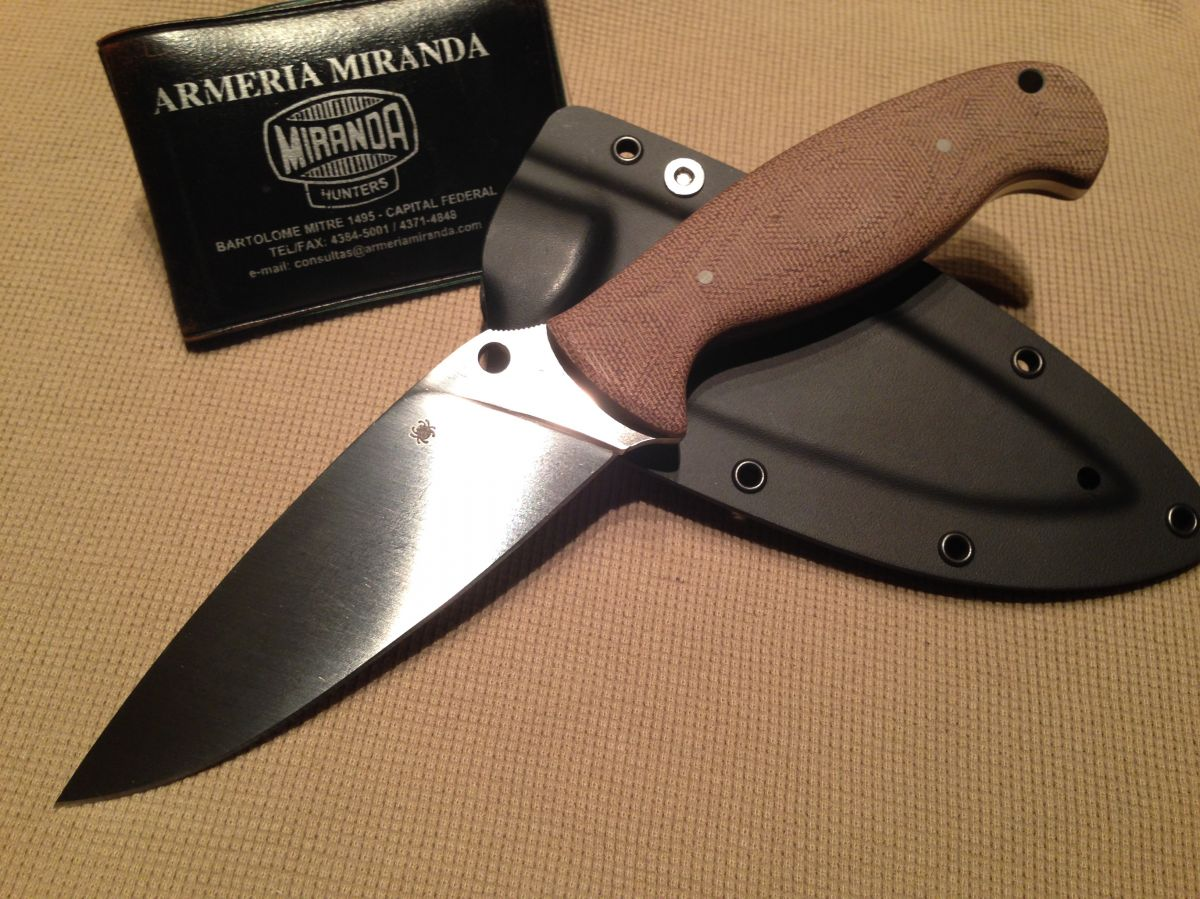knife: (41, 292, 696, 817)
